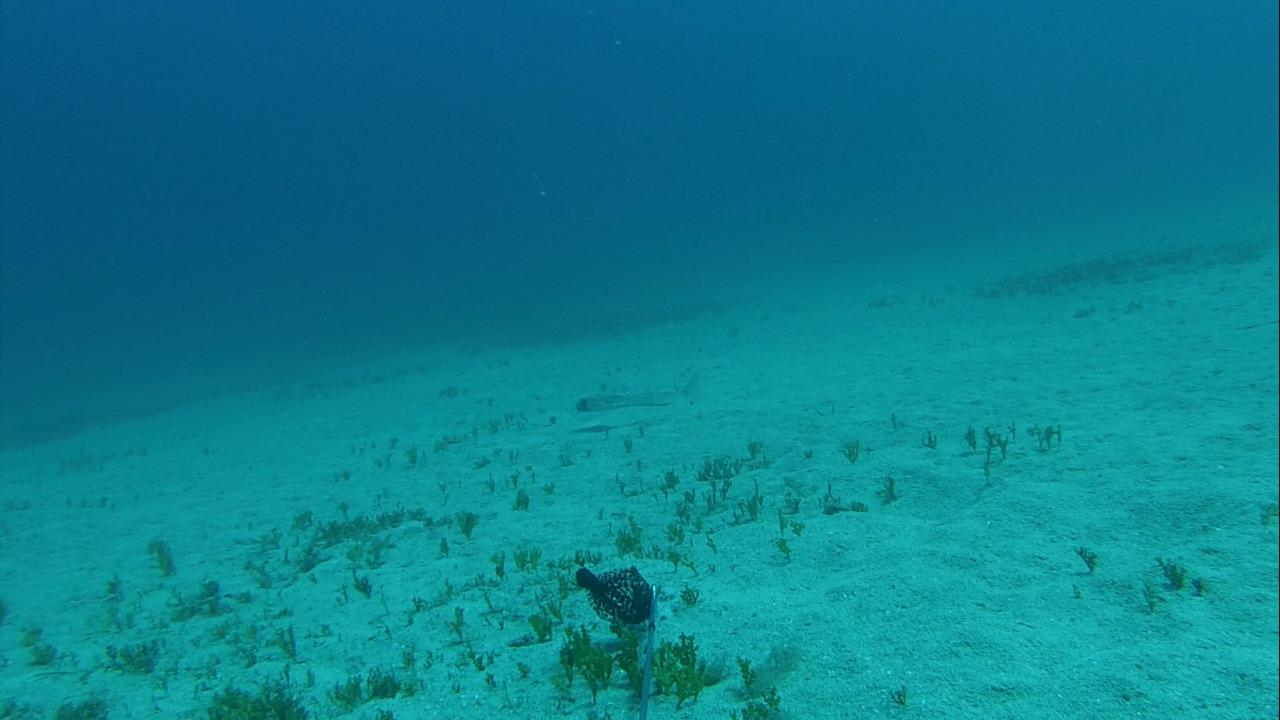dactylopterus: (560, 373, 704, 417)
